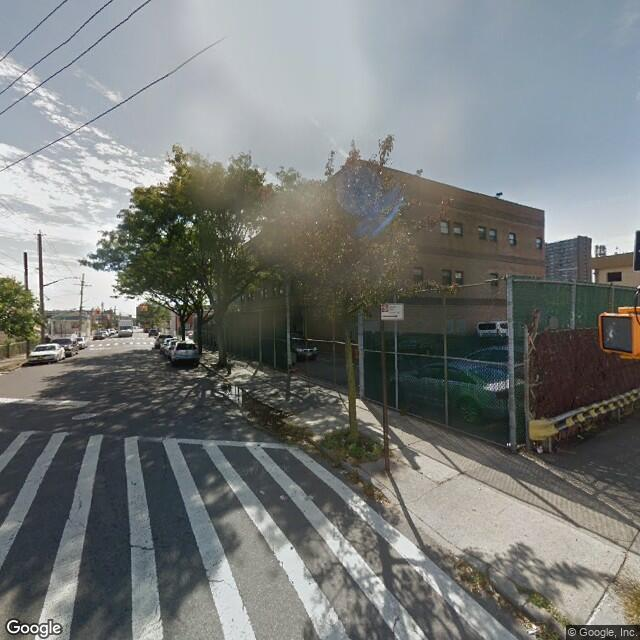litter: (528, 622, 542, 633), (504, 441, 515, 450), (537, 445, 548, 454), (575, 432, 586, 439), (339, 468, 346, 471)
